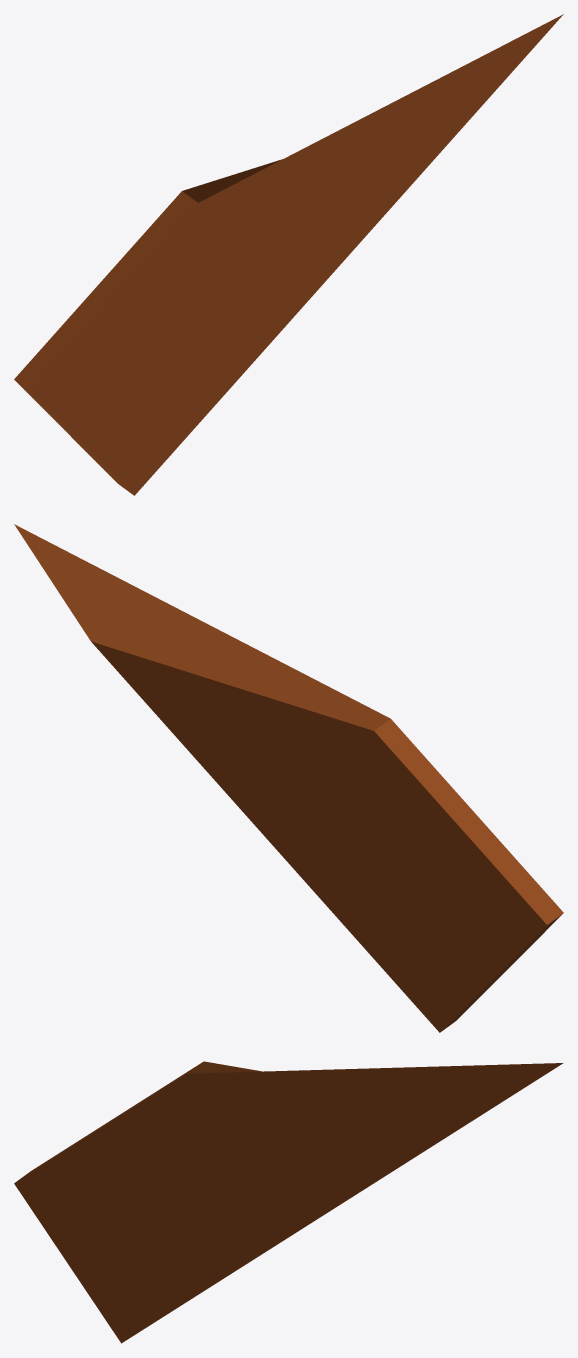
Rendered from wooden_wall_center_des2.FBX.
3 views of the same model, one above another, from view 1: azimuth 30°, elevation 25°; view 2: azimuth 150°, elevation 25°; view 3: azimuth 330°, elevation 25° (orthographic). The views are drawn at different scales.
Parts seen in each view (by area): view 1: Quader026; view 2: Quader026; view 3: Quader026.
Boxes of the visible parts, x1,y1,x2,y2 form: Quader026: [14, 14, 563, 495]; Quader026: [14, 524, 563, 1032]; Quader026: [14, 1061, 563, 1343].
Size of the model in its own units: 0.000341 by 1.81e-05 by 0.00023.
